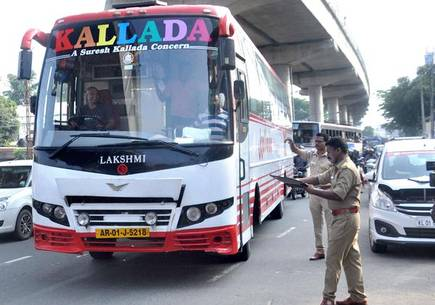numberplate: (92, 226, 151, 239)
